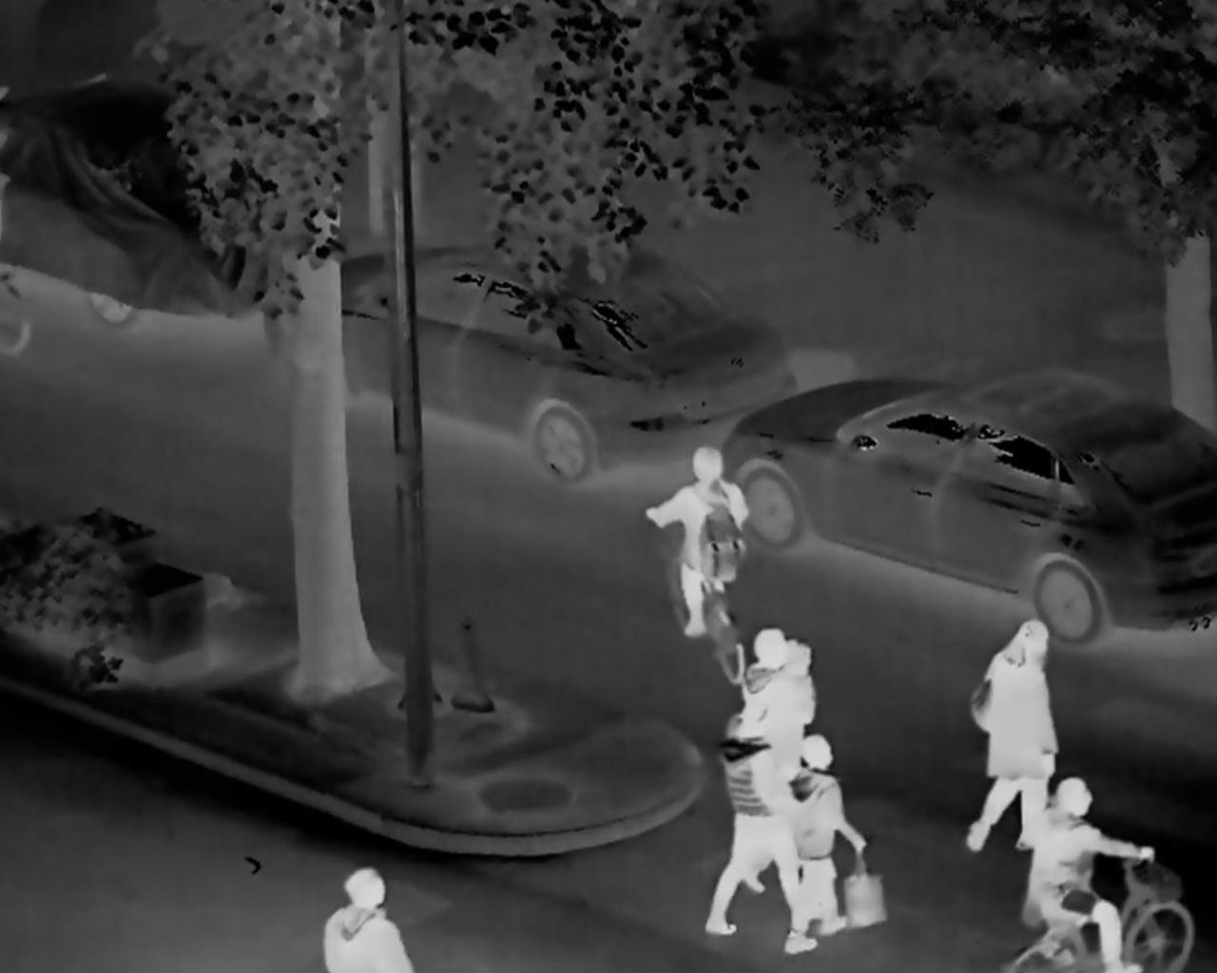person: (956, 604, 1072, 872), (1020, 775, 1156, 973), (785, 712, 889, 967), (628, 440, 749, 658), (706, 688, 805, 937), (741, 621, 834, 789), (324, 873, 444, 973)
